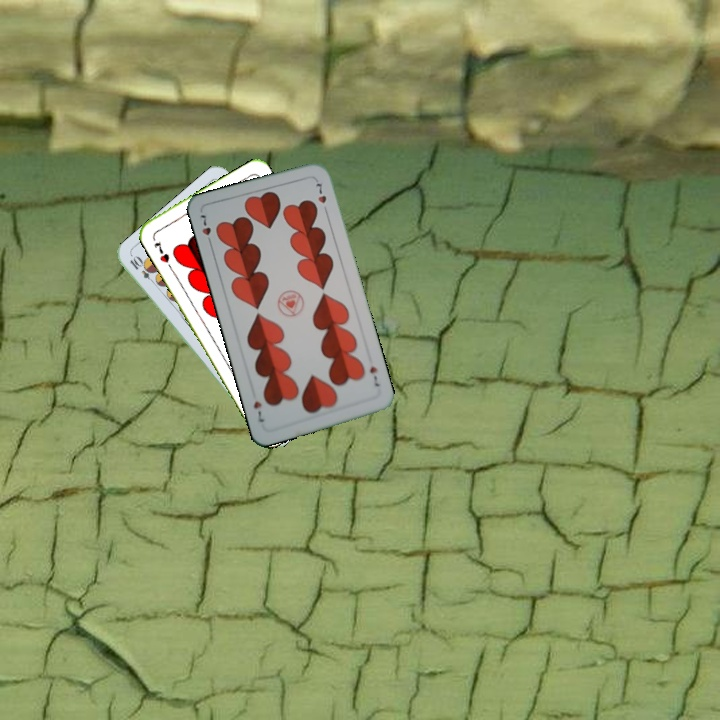E10: (126, 252, 159, 287)
H7: (150, 236, 174, 271), (196, 211, 215, 249), (366, 362, 382, 389)
